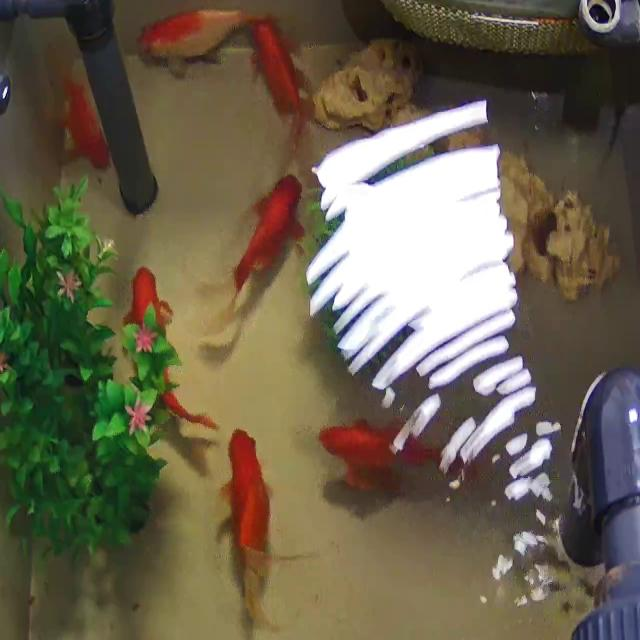fish: (312, 403, 488, 524), (207, 411, 298, 624), (214, 158, 314, 346), (114, 261, 208, 433), (133, 0, 251, 73), (250, 24, 322, 134), (45, 70, 109, 172)
